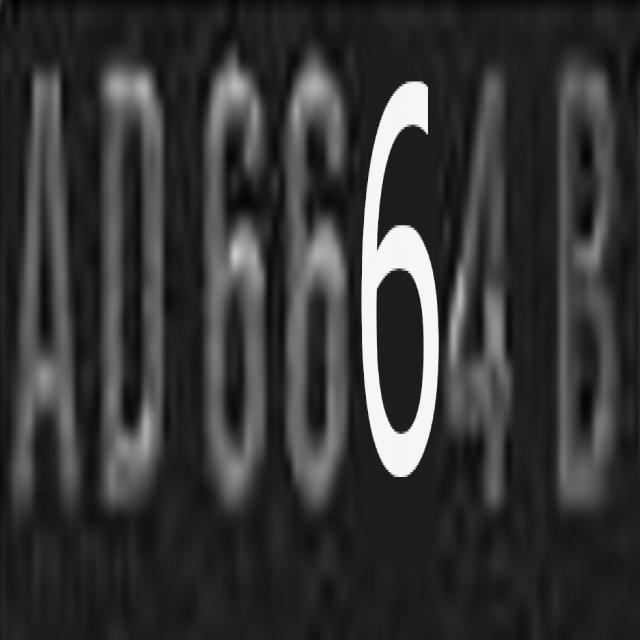4: (452, 58, 526, 519)
6: (352, 68, 450, 497), (190, 56, 274, 504), (288, 55, 348, 512)
A: (0, 51, 88, 517)
B: (548, 51, 640, 516)
D: (84, 54, 180, 514)
